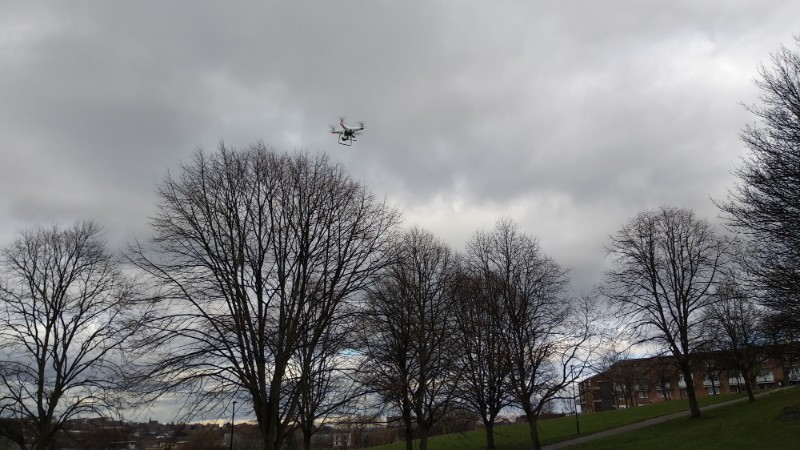drone: (328, 118, 367, 145)
